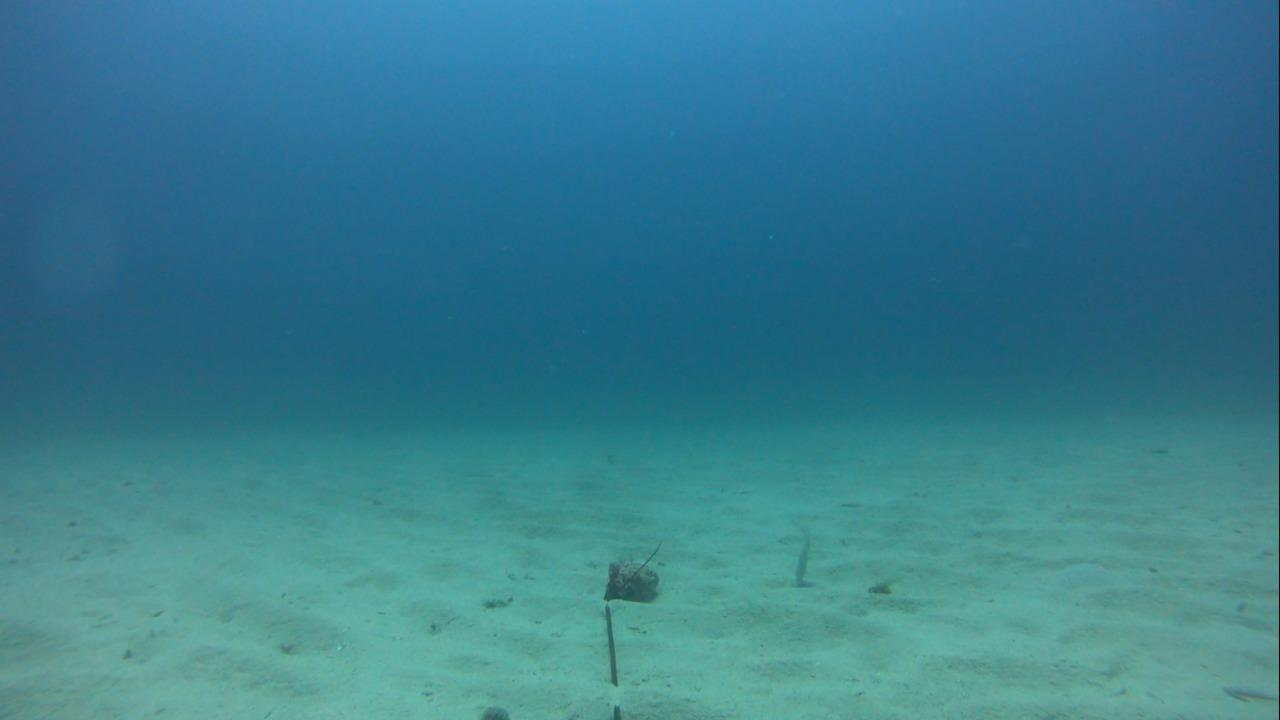raor: (778, 511, 819, 593)
